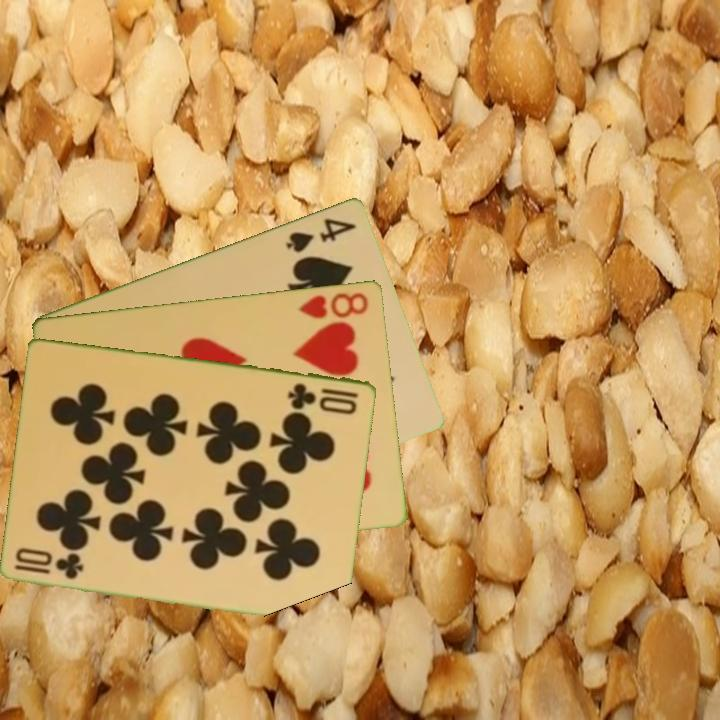10c: (285, 379, 362, 416), (11, 552, 87, 582)
4s: (282, 214, 359, 255)
8h: (294, 288, 371, 321)
